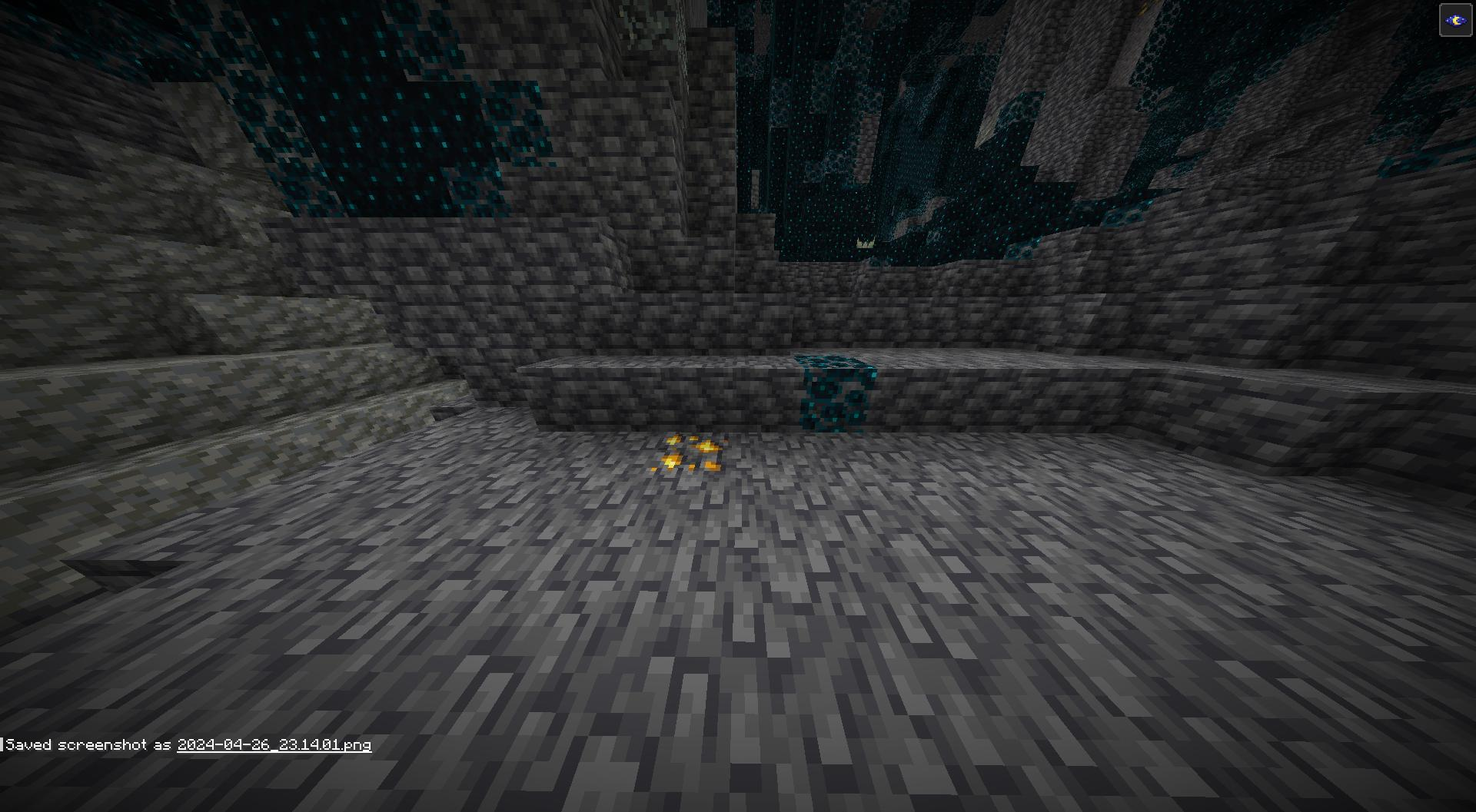gold ore: (649, 429, 727, 477)
